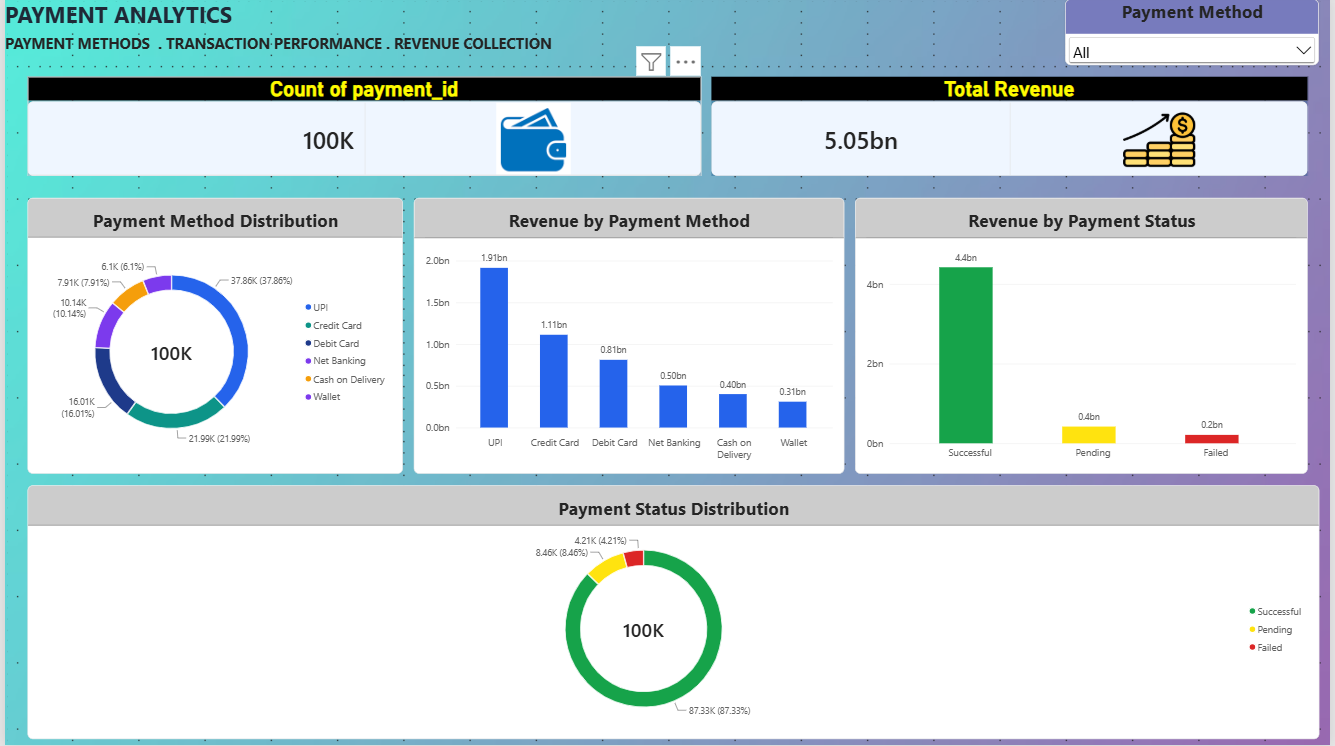

Layout of this report page (visuals, bound fields, positions):
{"tool":"powerbi","page":{"name":"Payment Analytics","canvas":[1920,1080],"ordinal":3},"visuals":[{"type":"textbox","box":[10,0,280,280],"z":0},{"type":"textbox","box":[0,0,896,80],"z":1000},{"type":"textbox","box":[10,290,280,280],"z":2000},{"type":"textbox","box":[0,48,816,32],"z":3000},{"type":"cardVisual","title":"Count of payment_id","fields":{"Data":["CountNonNull(public payments.payment_id)"]},"box":[32,112,976,144],"z":4000},{"type":"cardVisual","title":"Total Revenue","fields":{"Data":["public order_items.Total Revenue"]},"box":[1024,112,864,144],"z":5000},{"type":"donutChart","title":"Payment Method Distribution ","fields":{"Category":["public payments.payment_method"],"Y":["CountNonNull(public payments.payment_id)"]},"box":[32,288,544,400],"z":6000},{"type":"clusteredColumnChart","title":"Revenue by Payment Method","fields":{"Category":["public payments.payment_method"],"Y":["public order_items.Total Revenue"]},"box":[592,288,624,400],"z":7000},{"type":"donutChart","title":"Payment Status Distribution","fields":{"Category":["public payments.payment_status"],"Y":["CountNonNull(public payments.payment_id)"]},"box":[32,704,1872,368],"z":8000},{"type":"clusteredColumnChart","title":"Revenue by Payment Status","fields":{"Category":["public payments.payment_status"],"Y":["public order_items.Total Revenue"]},"box":[1232,288,656,400],"z":9000},{"type":"slicer","title":"Payment Method","fields":{"Values":["public payments.payment_method"]},"box":[1536,0,368,96],"z":10000}]}

Visuals, with their boxes in screenshot pixels (x1, y1, x2, y2), scaled from the page's 1920x1080 canvas onto the 1335x746 screenshot:
textbox: box(7, 0, 202, 193)
textbox: box(0, 0, 623, 55)
textbox: box(7, 200, 202, 394)
textbox: box(0, 33, 567, 55)
"Count of payment_id" cardVisual: box(22, 77, 701, 177)
"Total Revenue" cardVisual: box(712, 77, 1313, 177)
"Payment Method Distribution " donutChart: box(22, 199, 400, 475)
"Revenue by Payment Method" clusteredColumnChart: box(412, 199, 846, 475)
"Payment Status Distribution" donutChart: box(22, 486, 1324, 740)
"Revenue by Payment Status" clusteredColumnChart: box(857, 199, 1313, 475)
"Payment Method" slicer: box(1068, 0, 1324, 66)
